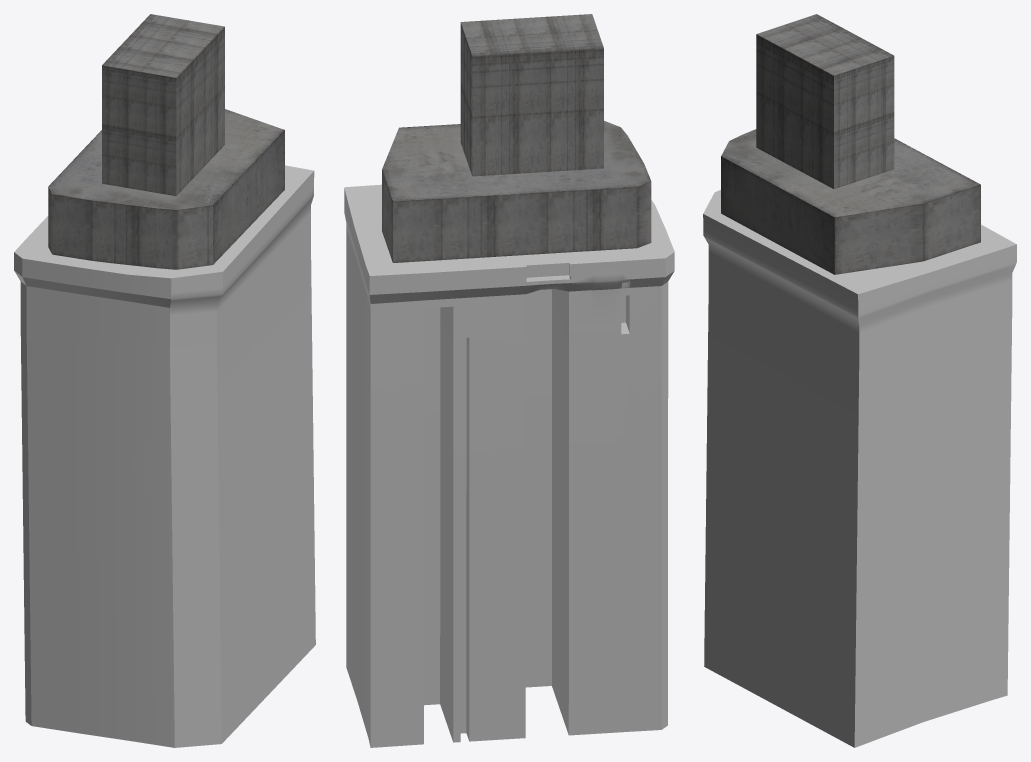
The picture shows the model from 3 angles, left to right: view 1: azimuth 30°, elevation 25°; view 2: azimuth 150°, elevation 25°; view 3: azimuth 270°, elevation 25°; orthographic projection. The views are drawn at different scales.
Visible parts, largest first — view 1: Cube.054; view 2: Cube.054; view 3: Cube.054.
Boxes of the visible parts, box(x1,y1,x2,y2) form: Cube.054: box(14, 14, 315, 747); Cube.054: box(344, 14, 674, 747); Cube.054: box(703, 14, 1016, 747).
Size of the model in its own units: 3217 by 6489 by 2954.
